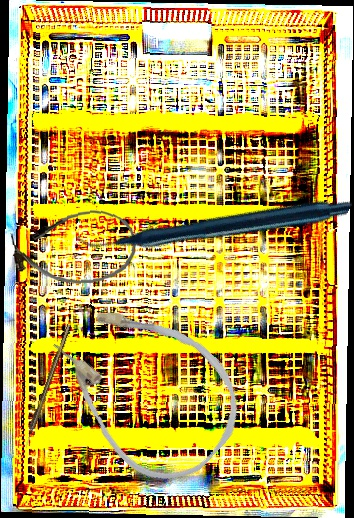Cannula: (28, 271, 264, 503), (8, 206, 140, 290)
Handpiece: (76, 96, 353, 347)
Hook Surgical: (21, 323, 73, 449)
